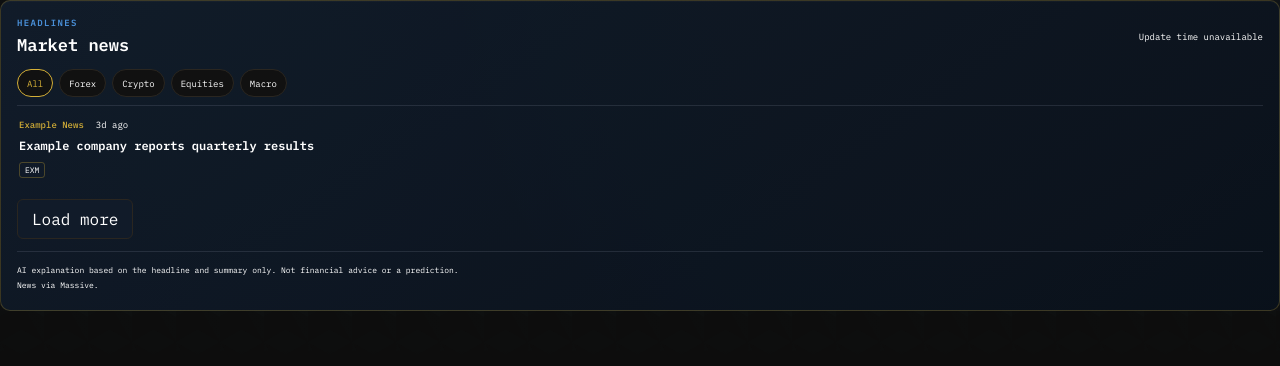
Test case: NewsFeed › loads another page from the before cursor and appends it
The width and height of the screenshot is (1280, 366).
Expected: the text "Example company reports quarterly results" is shown, [19,138,314,153]
Click the button "Load more". click: (75, 219)
box: [17,199,133,239]
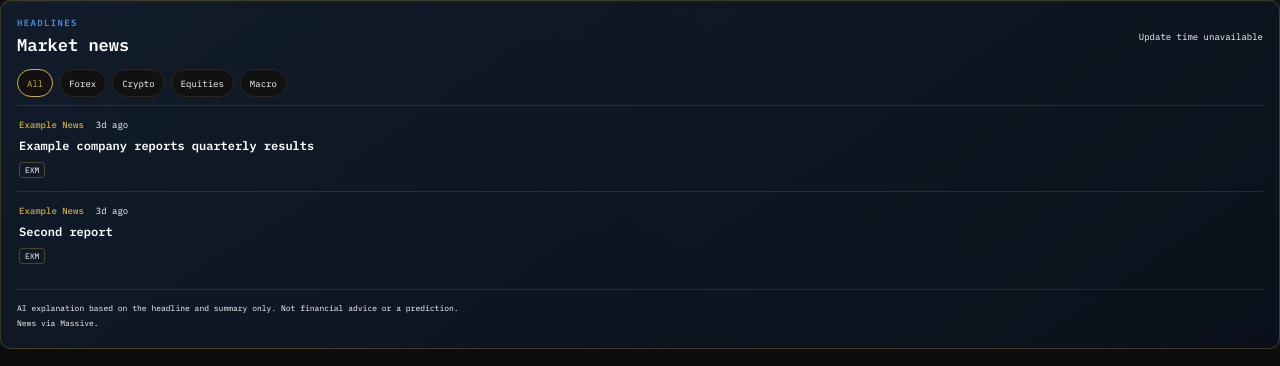
Expected: the text "Second report" is shown, [19,224,113,239]
